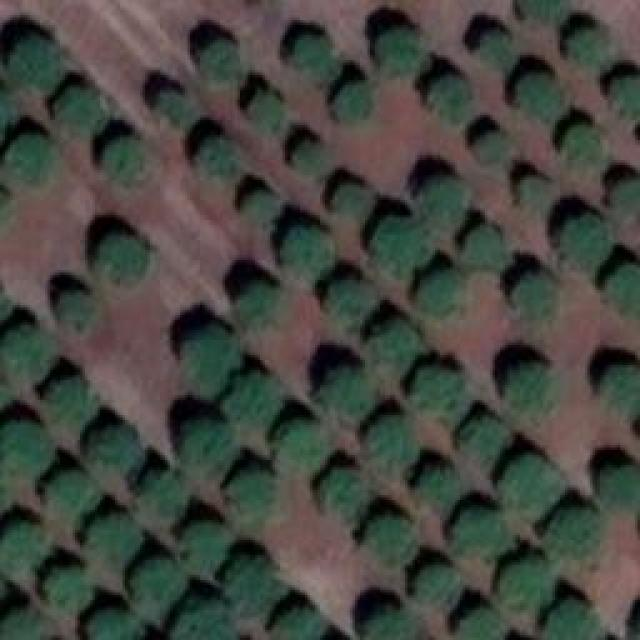Tree: (182, 330, 240, 395), (500, 457, 563, 515), (228, 557, 283, 615), (373, 220, 428, 278), (130, 560, 183, 618), (367, 320, 425, 373), (180, 423, 235, 478), (10, 38, 65, 91), (222, 378, 280, 428), (0, 422, 52, 477), (500, 560, 553, 613), (413, 368, 466, 421), (90, 518, 143, 568), (275, 423, 325, 476), (5, 137, 58, 185), (0, 328, 48, 381), (47, 378, 95, 431), (90, 427, 143, 475), (548, 507, 601, 555), (230, 475, 283, 523), (320, 367, 373, 415), (173, 600, 236, 640), (368, 517, 418, 565), (367, 418, 415, 468), (455, 510, 510, 553), (55, 88, 108, 131), (563, 218, 606, 271), (185, 525, 230, 575), (283, 230, 333, 275), (48, 475, 98, 518), (97, 238, 145, 281), (325, 280, 373, 323), (105, 140, 148, 188), (460, 417, 503, 465), (0, 525, 45, 570), (378, 30, 423, 75), (548, 602, 601, 640), (422, 178, 460, 231), (323, 470, 366, 515), (430, 78, 473, 123), (518, 75, 563, 118), (605, 365, 640, 418), (48, 568, 91, 611), (235, 285, 278, 328), (198, 38, 241, 81), (293, 38, 336, 81), (597, 467, 640, 510), (140, 475, 185, 515), (420, 470, 460, 513), (463, 225, 503, 268), (418, 273, 458, 316), (507, 365, 545, 410), (607, 265, 640, 315), (515, 275, 553, 318), (365, 612, 423, 640), (418, 565, 458, 605), (198, 138, 238, 178), (565, 128, 605, 168), (90, 610, 140, 640), (277, 607, 320, 640), (333, 188, 376, 221), (478, 32, 513, 70), (335, 83, 373, 118), (155, 93, 193, 126), (3, 612, 46, 640), (463, 610, 503, 640), (58, 293, 91, 328), (570, 33, 605, 66), (610, 77, 640, 115), (250, 93, 280, 128), (520, 178, 550, 213), (245, 192, 278, 220), (520, 0, 565, 20), (475, 135, 503, 163), (295, 143, 320, 173), (612, 183, 640, 208)
